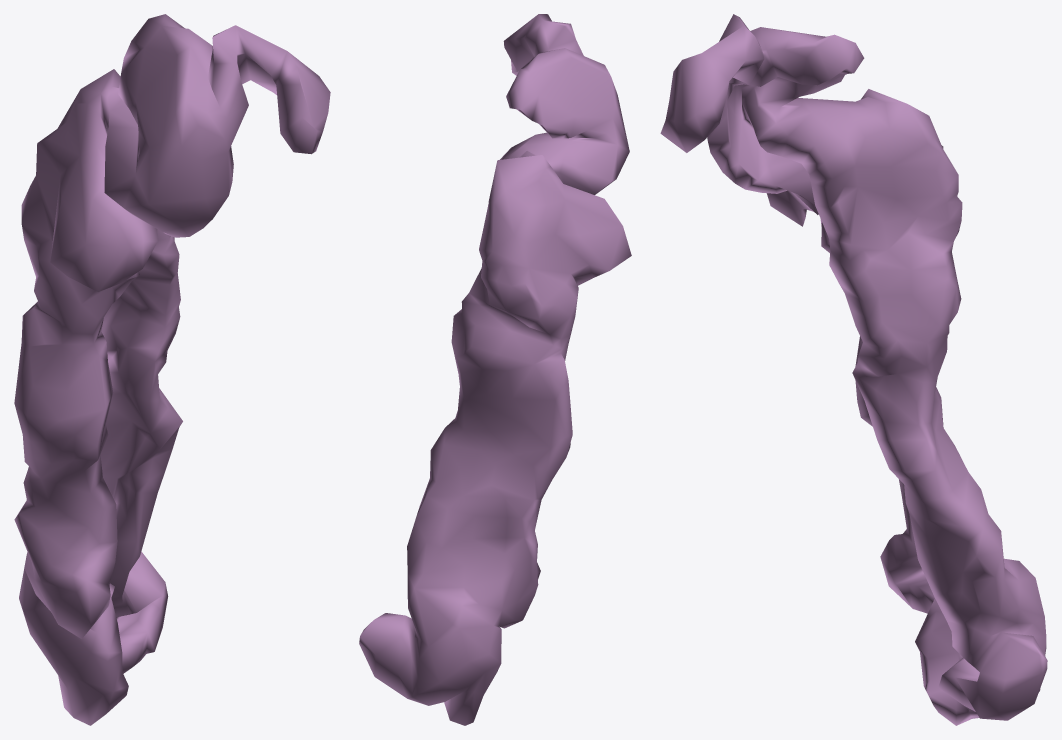
The picture shows the model from 3 angles, left to right: view 1: azimuth 30°, elevation 25°; view 2: azimuth 150°, elevation 25°; view 3: azimuth 270°, elevation 25°; orthographic projection. The views are drawn at different scales.
Visible parts, largest first — view 1: 右侧颞下回; view 2: 右侧颞下回; view 3: 右侧颞下回.
Boxes of the visible parts, x1,y1,x2,y2 form: 右侧颞下回: (14,14,330,725); 右侧颞下回: (359,14,631,725); 右侧颞下回: (660,14,1047,725).
Size of the model in its own units: 0.0378 by 0.1321 by 0.0649.
